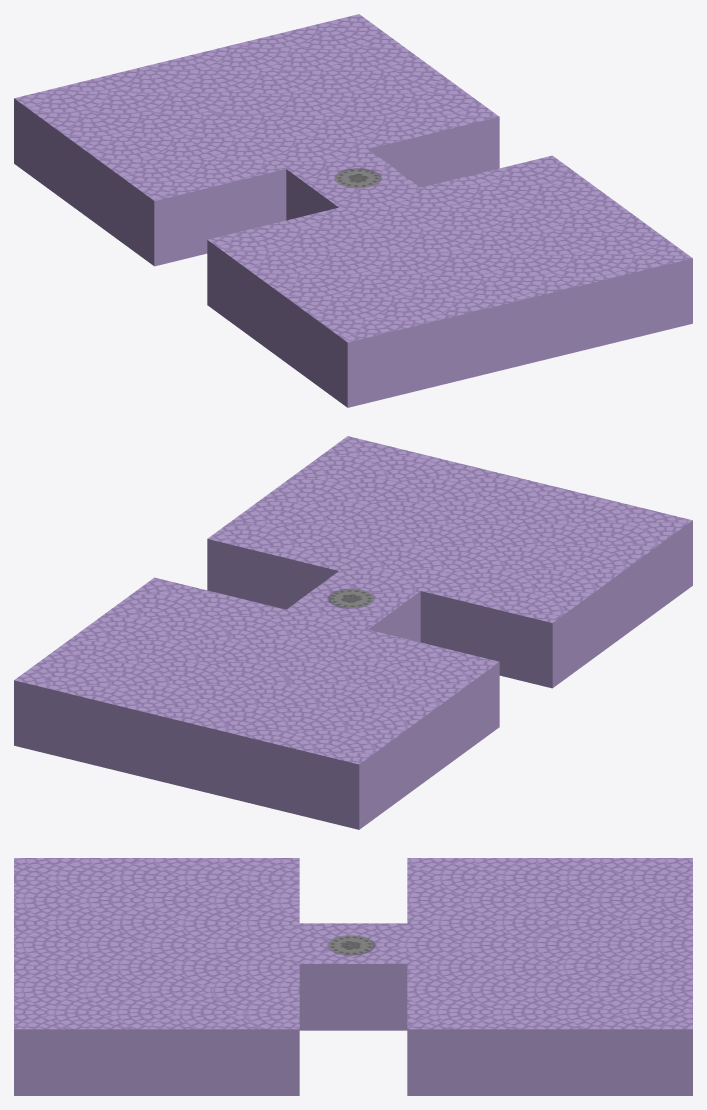
Rendered from Alley2.fbx.
The picture shows the model from 3 angles, top to bottom: view 1: azimuth 30°, elevation 25°; view 2: azimuth 150°, elevation 25°; view 3: azimuth 270°, elevation 25°; orthographic projection.
Visible parts, largest first — view 1: Alley Base - Ground; view 2: Alley Base - Ground; view 3: Alley Base - Ground.
Boxes of the visible parts, x1,y1,x2,y2 form: Alley Base - Ground: (14, 14, 692, 407); Alley Base - Ground: (14, 436, 692, 829); Alley Base - Ground: (14, 858, 692, 1095).
Size of the model in its own units: 12681 by 2294 by 21230.
